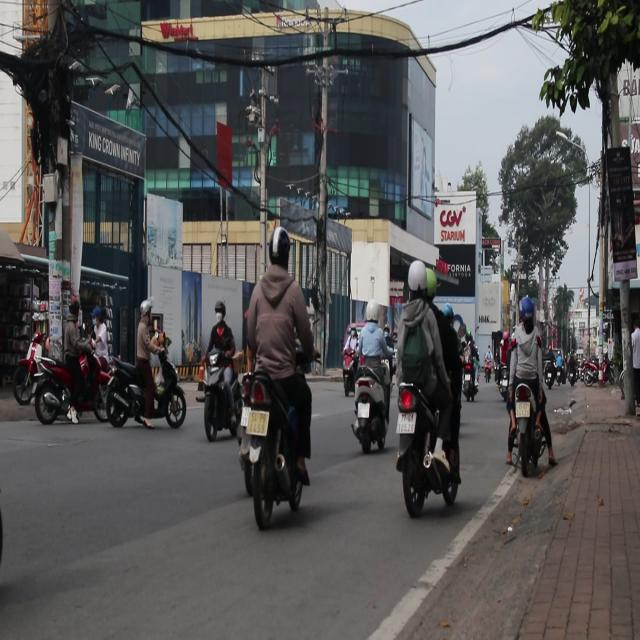motorbike: (235, 363, 310, 529), (394, 382, 460, 519), (101, 346, 188, 429), (27, 343, 111, 424), (505, 377, 553, 472), (197, 341, 240, 447), (349, 359, 392, 454), (14, 336, 57, 407), (546, 352, 565, 387), (463, 370, 479, 400)
